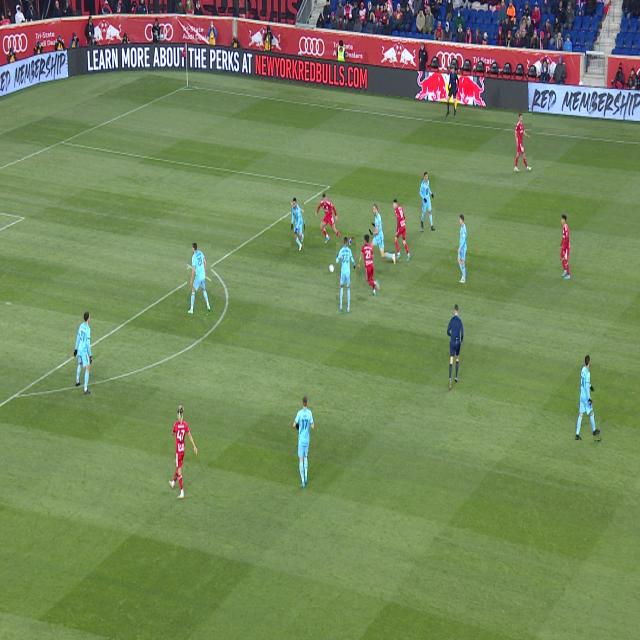football: (329, 265, 334, 272)
player: (169, 405, 198, 499), (576, 355, 600, 440), (293, 395, 314, 488), (369, 203, 396, 264), (188, 244, 211, 314), (336, 237, 356, 313), (315, 192, 343, 246), (74, 311, 92, 395), (358, 234, 380, 296), (393, 199, 411, 262), (514, 114, 532, 172), (420, 173, 435, 231), (560, 214, 571, 280), (457, 214, 467, 284), (292, 198, 304, 251)
referee: (447, 305, 464, 389)
